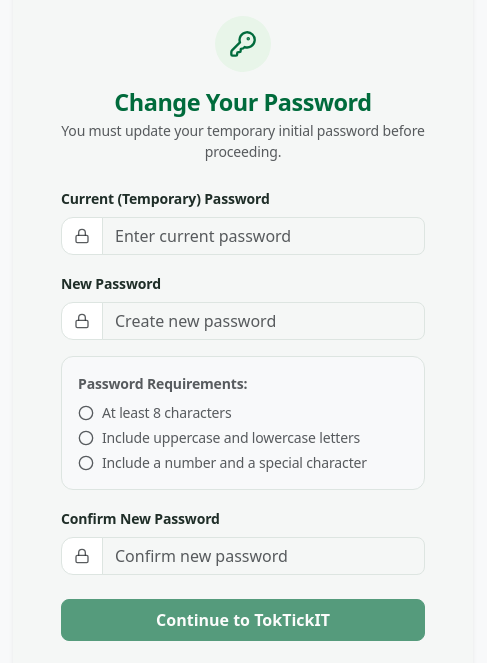
Scenario: ChangePassword Component (UI-02, AC-04, AC-05) › displays server error banner when change password request fails
Type "WrongInitialPass!" into the password field labelled "Current (Temporary) Password" at x=264, y=236, box [102,217,425,255]
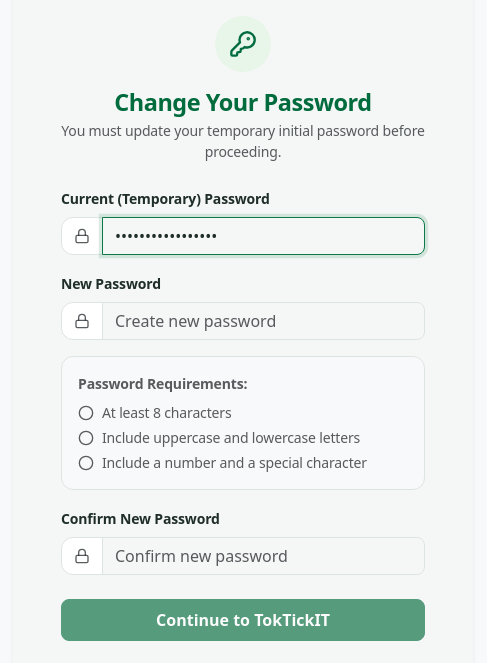
Type "SecurePass2026!" into the password field labelled "New Password" at x=264, y=321, box [102,302,425,340]
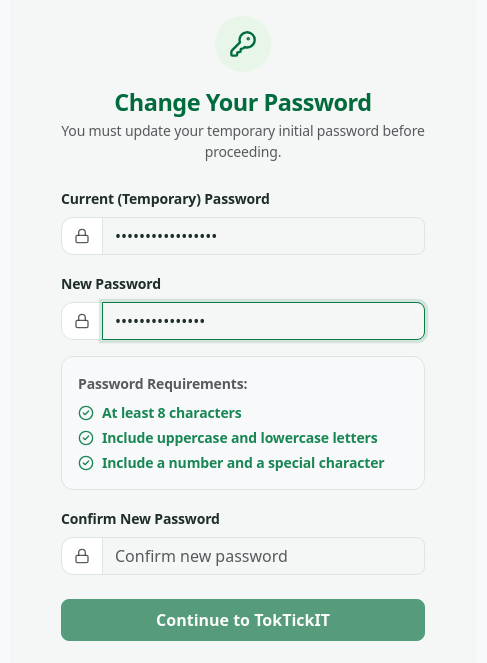
Type "SecurePass2026!" into the password field labelled "Confirm New Password" at x=264, y=556, box [102,537,425,575]
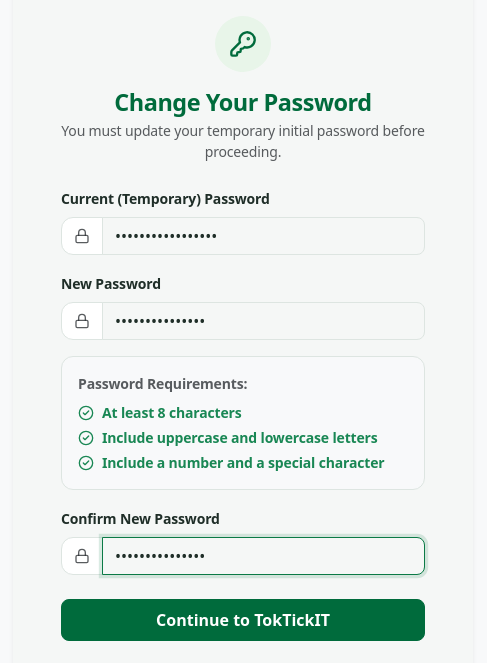
Click the button "Continue to TokTickIT" at x=243, y=620, box [61,599,425,641]
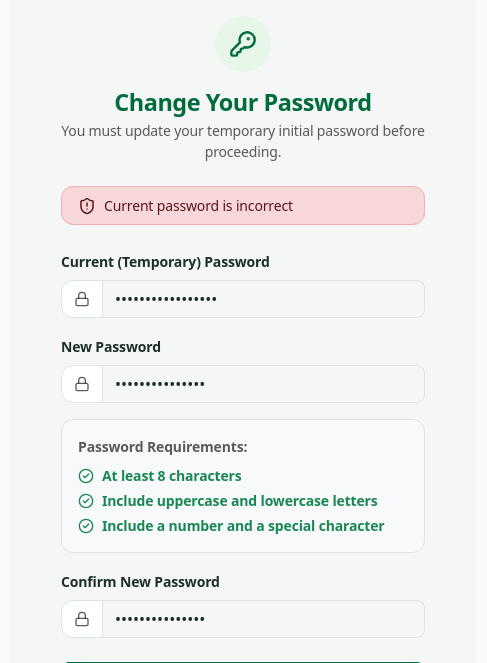
Expected: the text "Current password is incorrect" is shown, [104,195,293,216]
